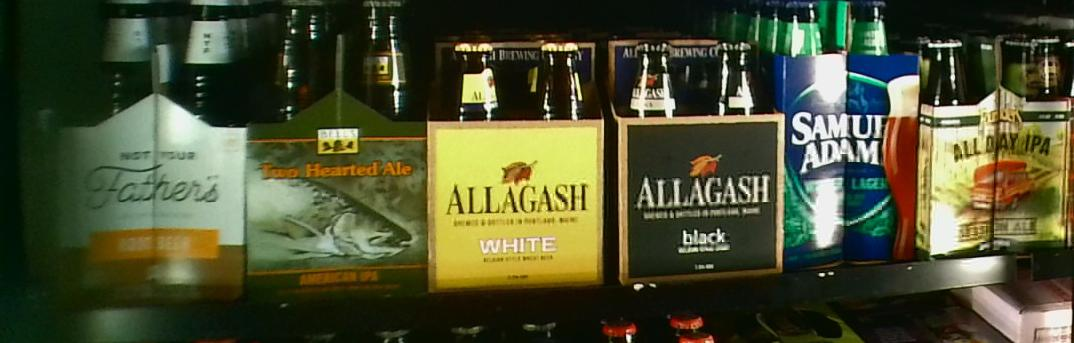bottle: (60, 1, 249, 303), (251, 2, 426, 300), (427, 35, 615, 287), (615, 37, 781, 280), (780, 3, 917, 266), (920, 36, 1074, 249)
